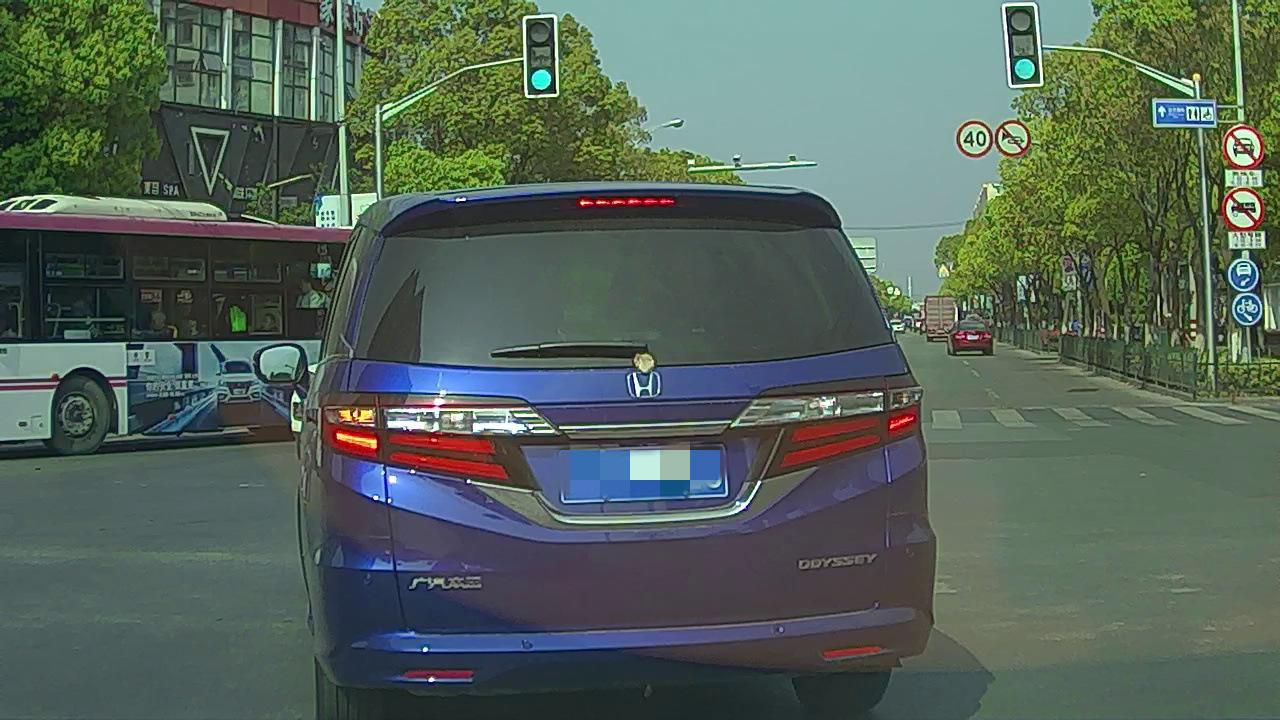traffic_light: (1004, 3, 1042, 87), (525, 16, 557, 95)
